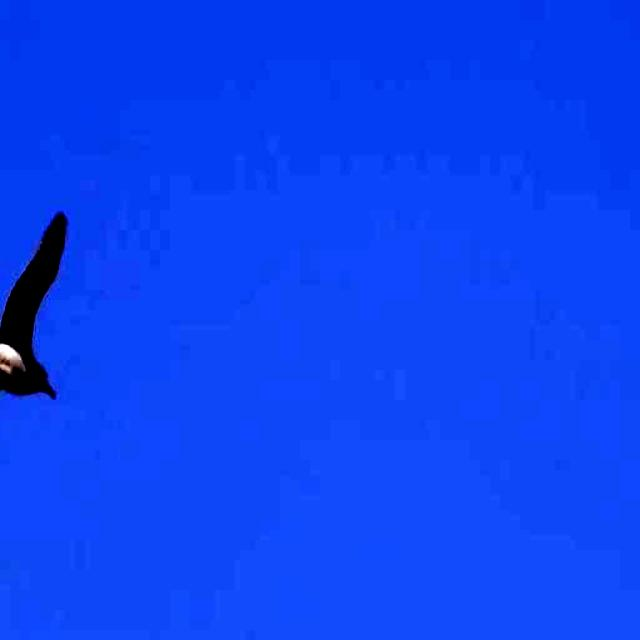airplane: (0, 202, 90, 538)
